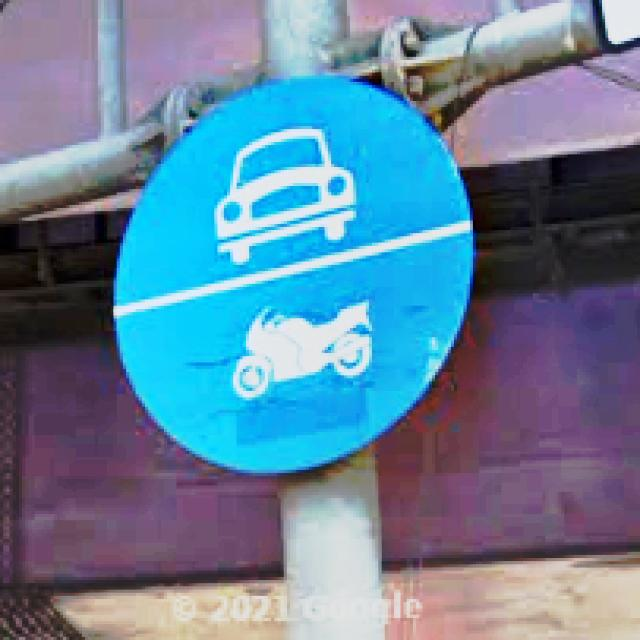carmotorcycle: (113, 76, 476, 479)
